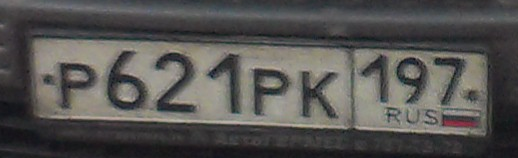character: (148, 47, 204, 115), (101, 46, 150, 117), (203, 45, 249, 119), (299, 65, 346, 124), (248, 65, 296, 121), (55, 58, 101, 113), (429, 52, 467, 110), (358, 51, 395, 106), (395, 52, 430, 106)
